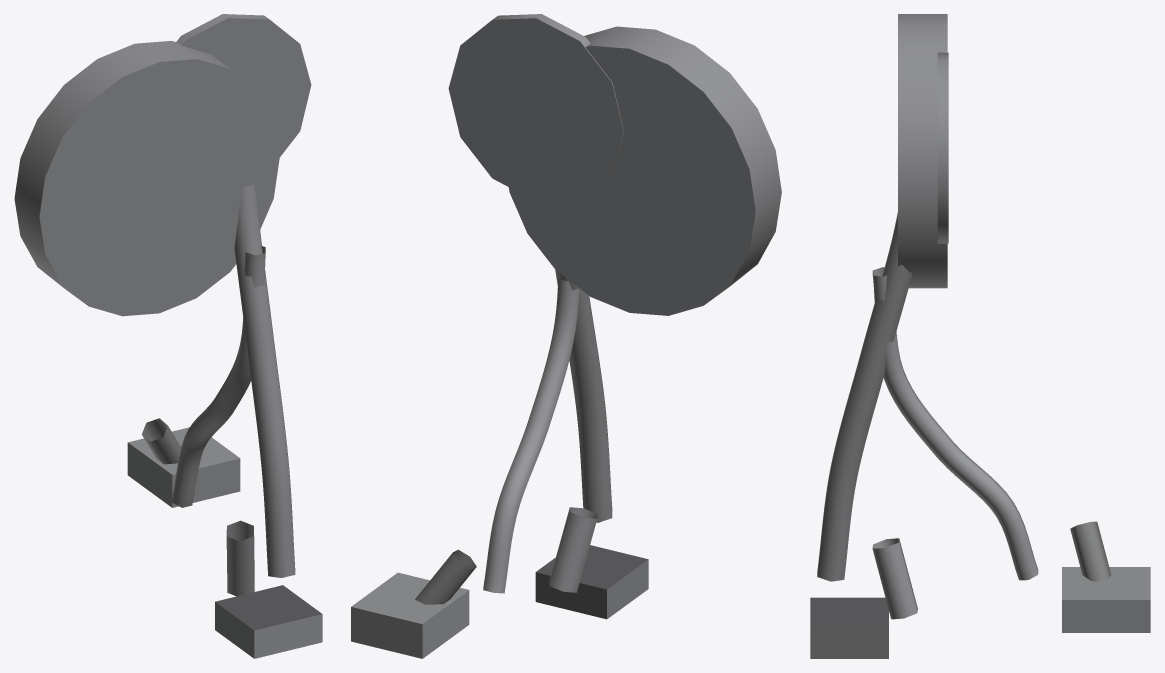
3 views of the same model, side by side, from view 1: azimuth 30°, elevation 25°; view 2: azimuth 150°, elevation 25°; view 3: azimuth 270°, elevation 25° (orthographic). The views are drawn at different scales.
Size of the model in its own units: 0.3663 by 0.7013 by 0.3713.
